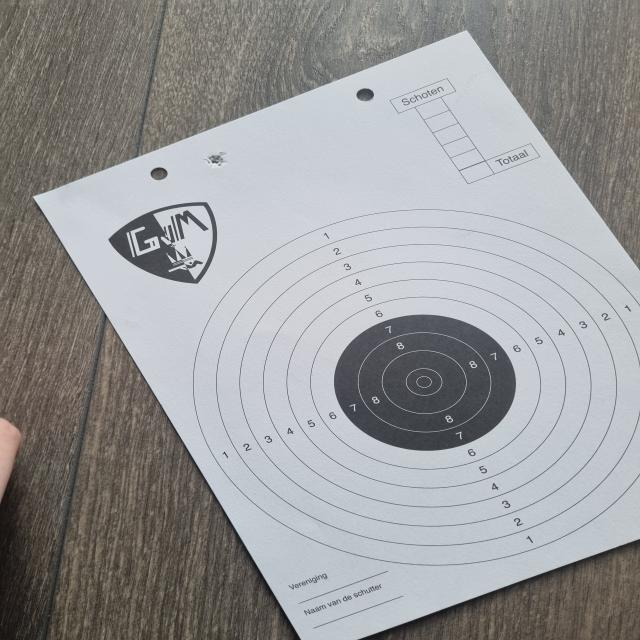0: (203, 152, 228, 169)
Target: (190, 208, 640, 568)
black_contour: (335, 314, 517, 451)
